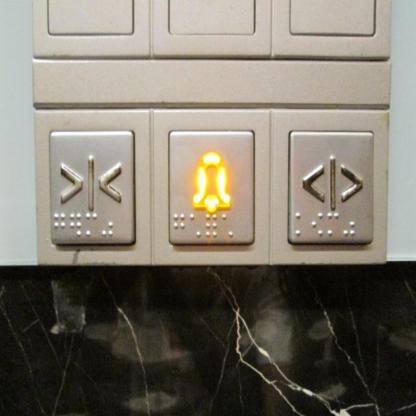alarm: (152, 106, 270, 268)
close: (35, 108, 152, 266)
open: (272, 108, 388, 266)
